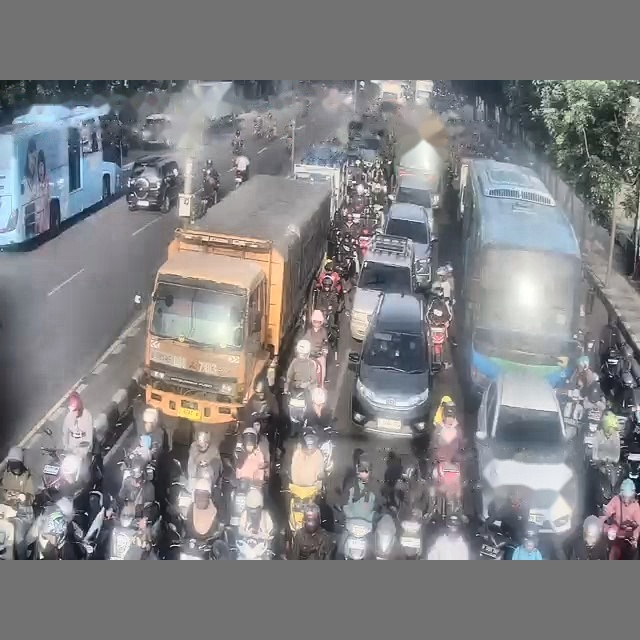Bis: (459, 159, 583, 402), (0, 105, 121, 246)
Mobil: (475, 371, 582, 534), (348, 293, 432, 437), (350, 234, 417, 340), (384, 202, 437, 289), (126, 155, 182, 212), (390, 174, 434, 232), (140, 114, 172, 148)
Truk: (143, 175, 331, 442), (293, 145, 346, 219)
